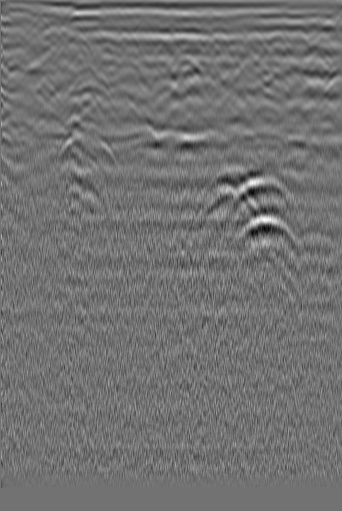가스: (56, 169, 95, 209)
상수: (303, 37, 323, 57)
오수: (9, 36, 29, 56)
우수: (171, 39, 191, 59)
